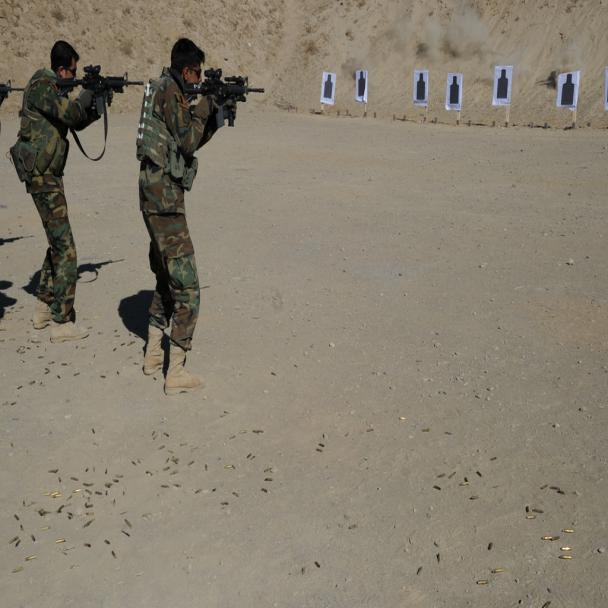Gun: (55, 64, 156, 100), (196, 64, 268, 114)
